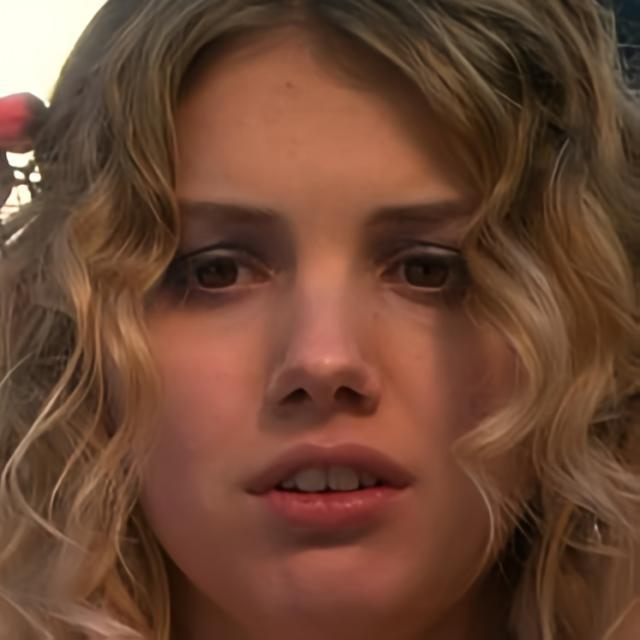sad: (119, 29, 546, 624)
